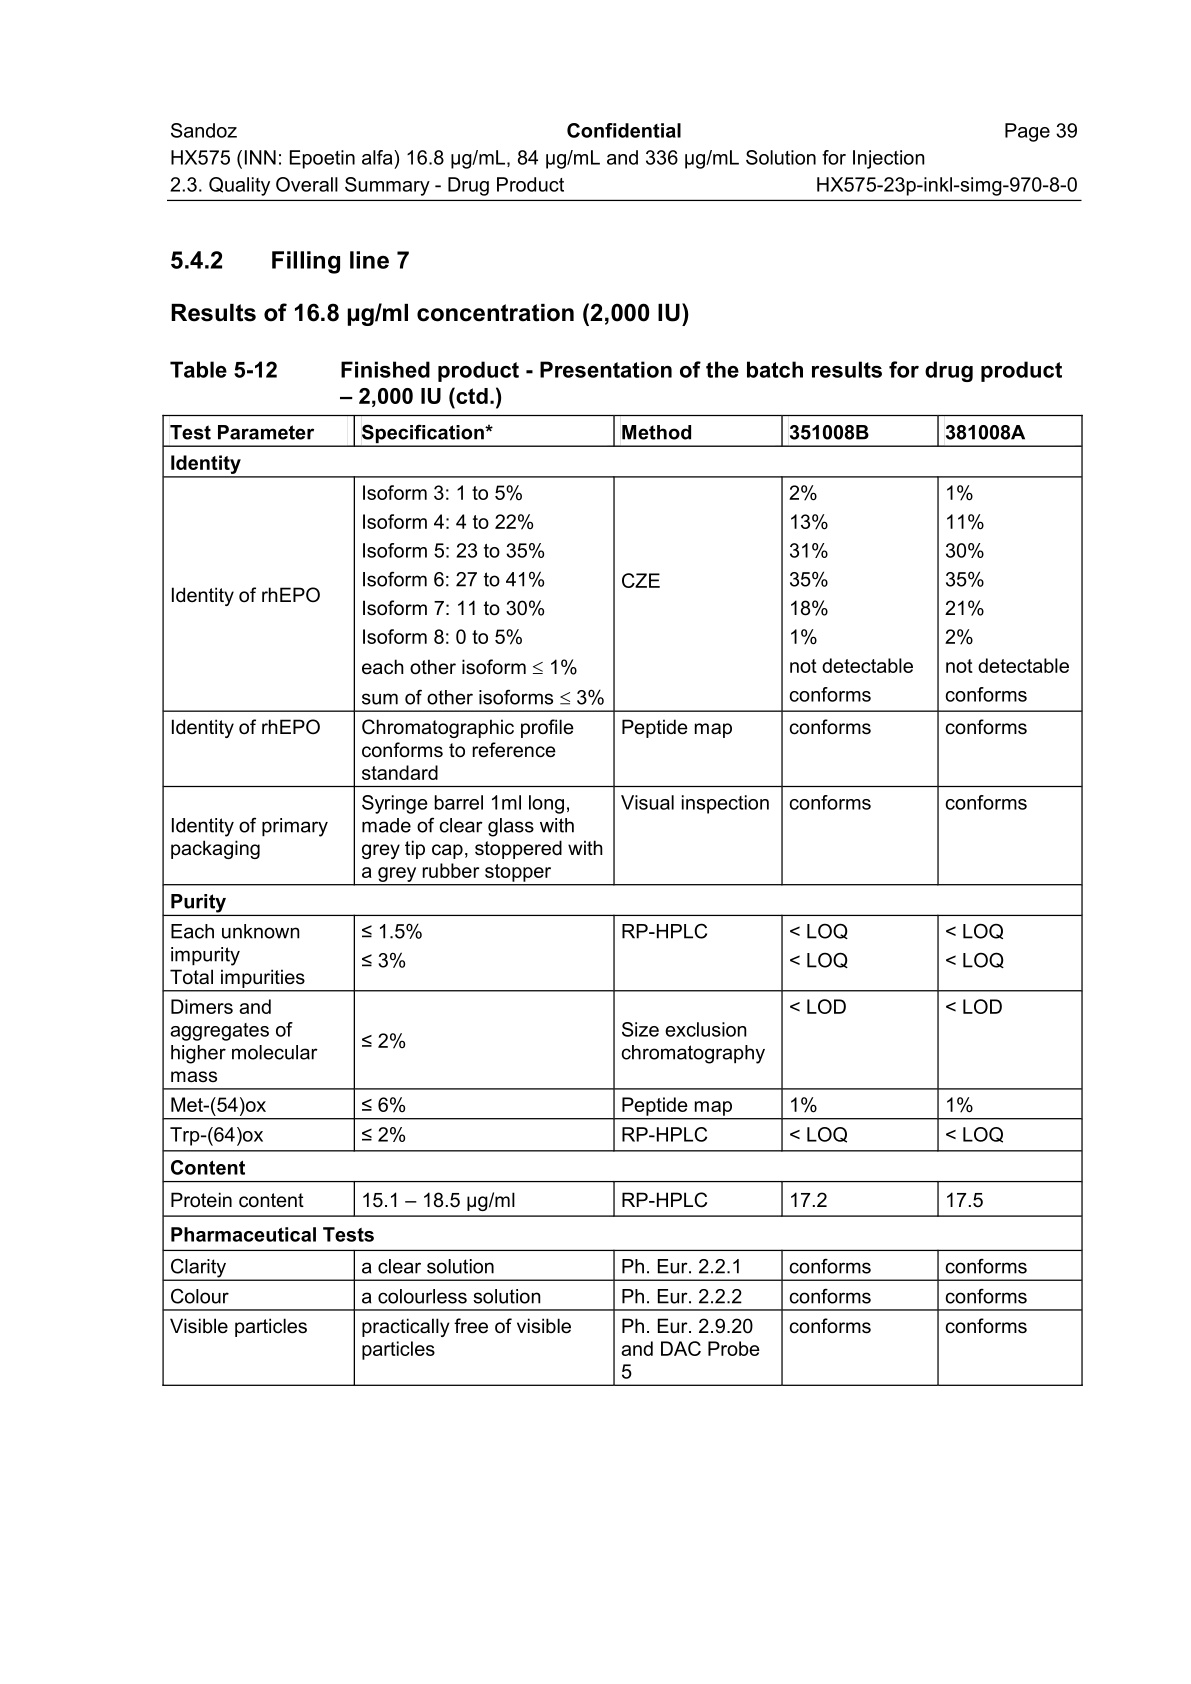merged_cells: (160, 414, 1084, 1386)
